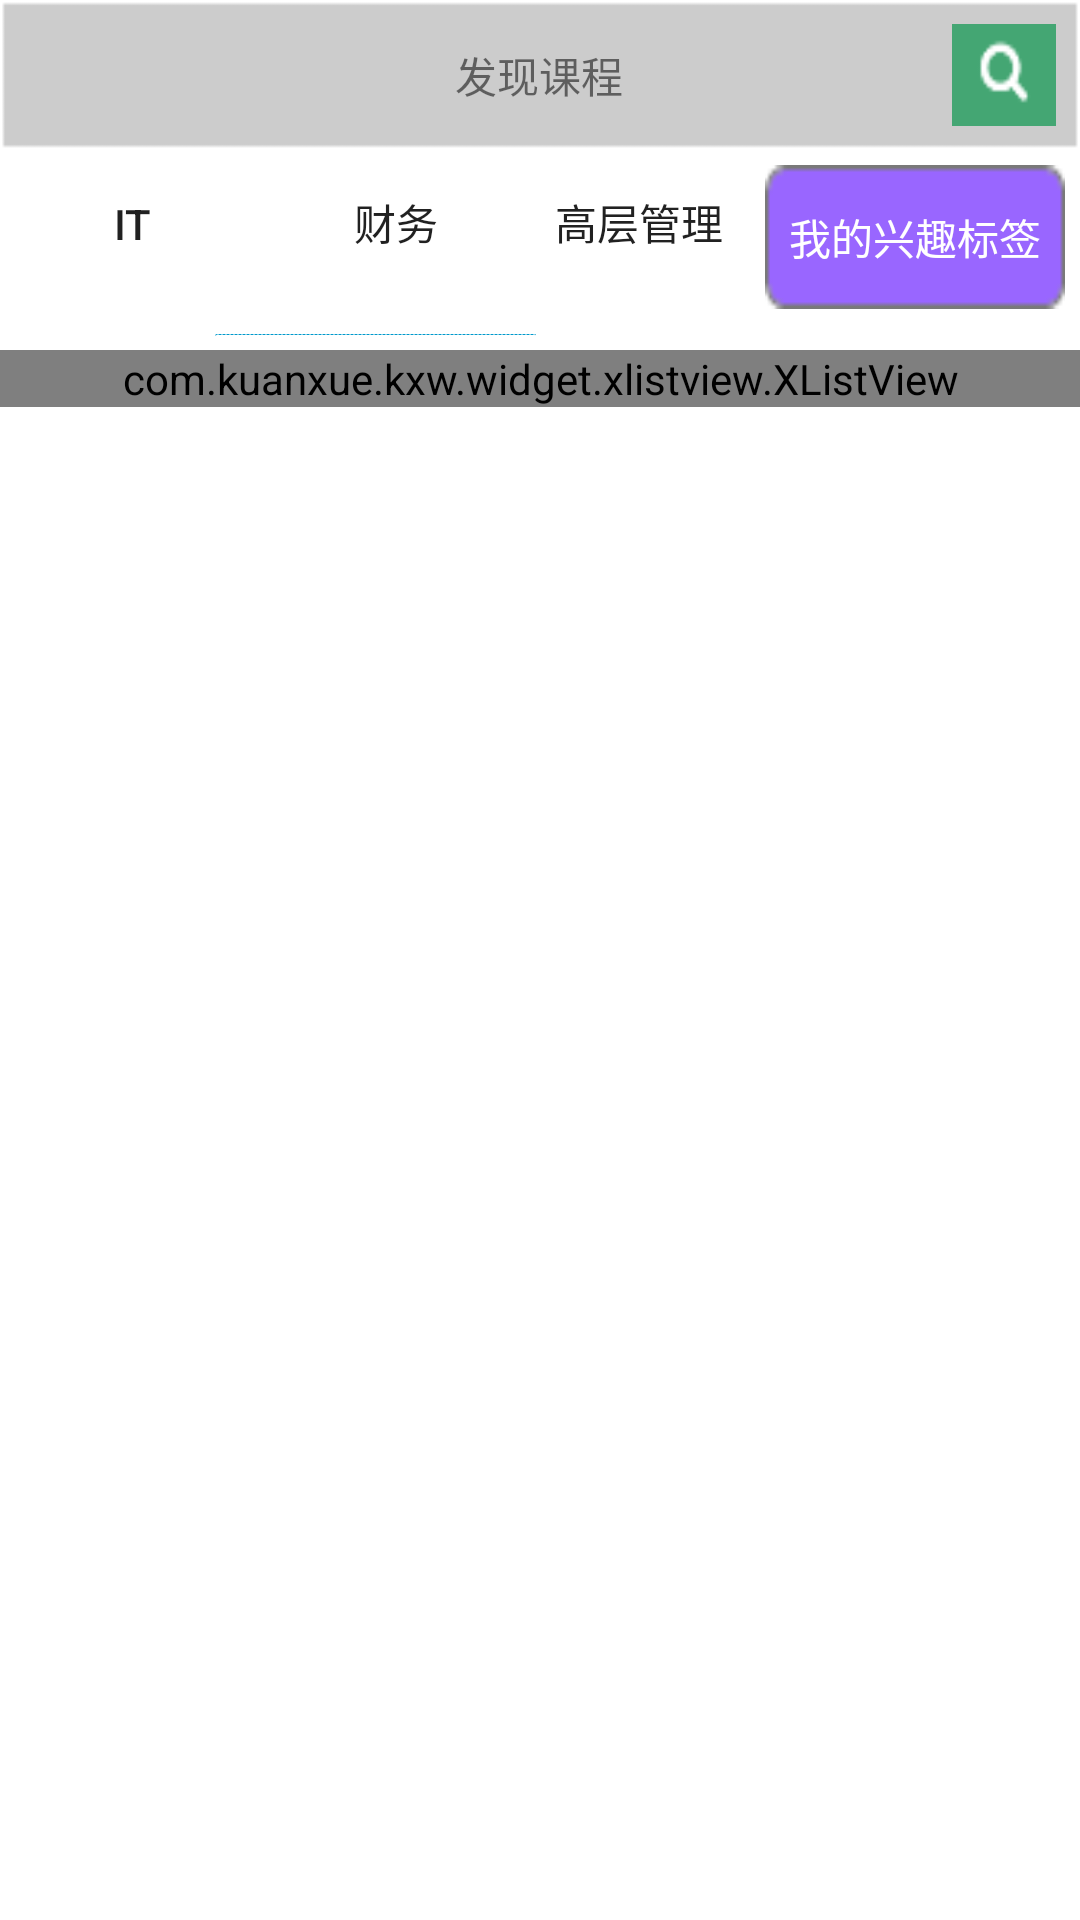

Where to tap for icons on this 1080×1920 app screen, as (x,y):
search: (1004,75)
